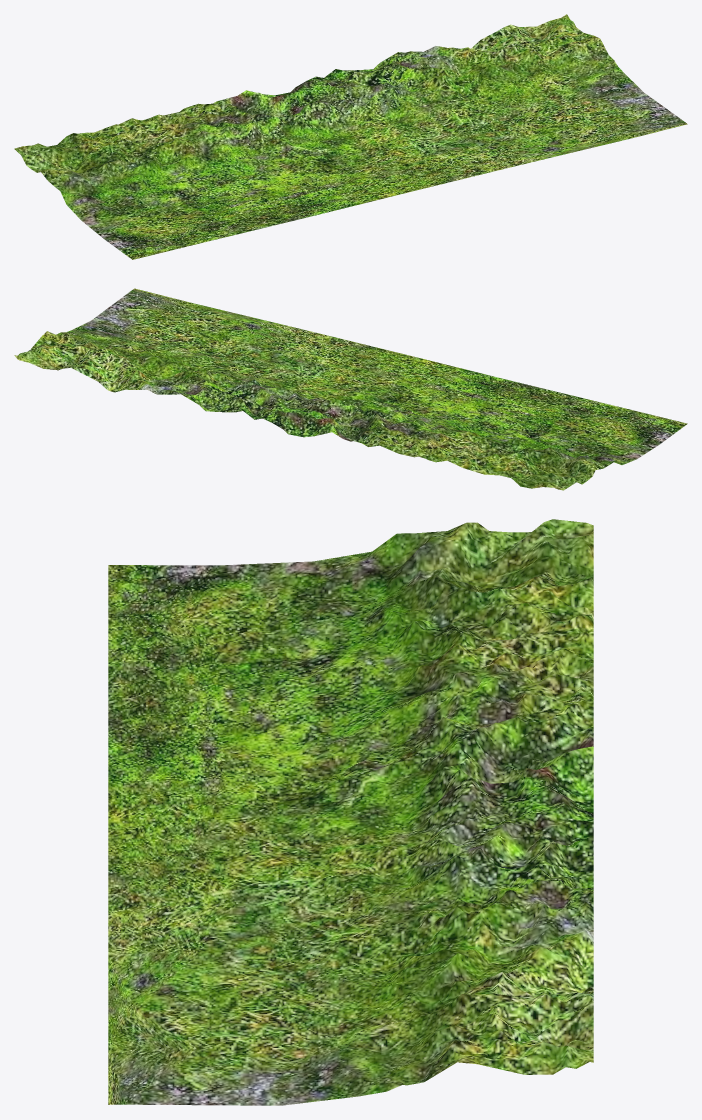
Rendered from terrain.obj.
3 renders of one model, top to bottom at view 1: azimuth 30°, elevation 25°; view 2: azimuth 150°, elevation 25°; view 3: azimuth 270°, elevation 25°, orthographic. The views are drawn at different scales.
Visible parts, largest first — view 1: terrain; view 2: terrain; view 3: terrain.
Part boxes in pixels (<box>): terrain: <box>14,14,687,259</box>; terrain: <box>14,288,687,490</box>; terrain: <box>108,519,593,1105</box>.
Bounding box in the file's own units: 564588 × 24957 × 214345.
1 material, 1 textured.
